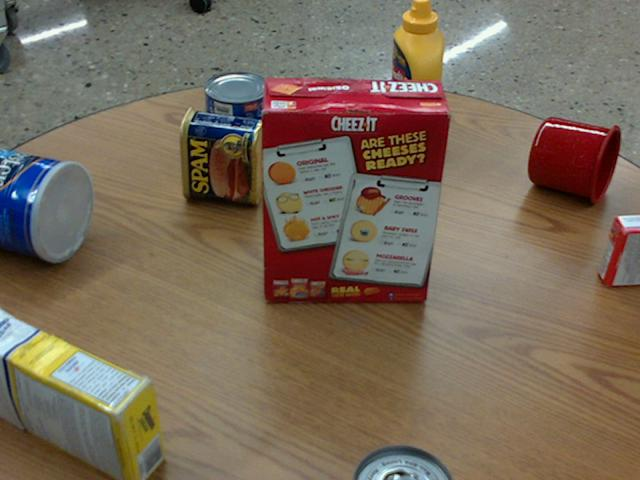cracker_box: (260, 77, 451, 299)
gelatin_box: (599, 217, 639, 288)
master_chef_can: (0, 147, 95, 261)
mug: (528, 117, 619, 203)
mustard_bottle: (386, 0, 443, 161)
potted_meat_can: (180, 105, 265, 202)
sugar_box: (0, 307, 165, 479)
tomato_soup_can: (354, 444, 455, 479)
tuna_fish_can: (205, 69, 271, 123)
